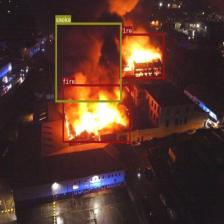fire: (62, 83, 131, 142), (119, 33, 164, 79)
smoke: (55, 22, 121, 102)
